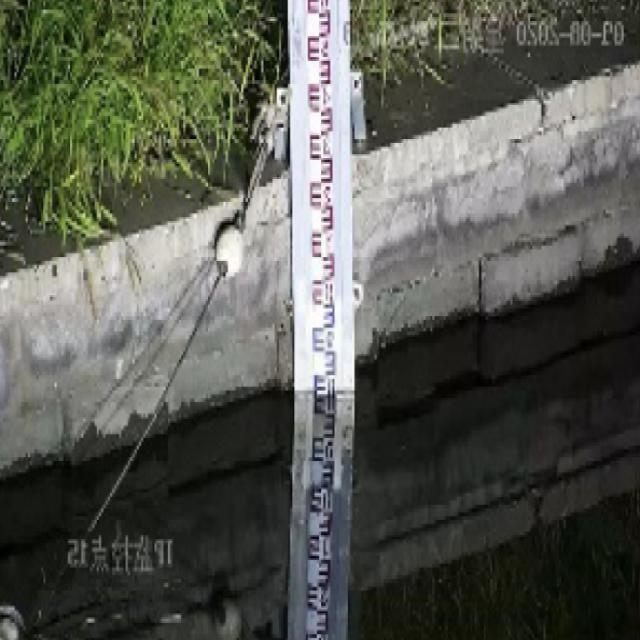water-level-meters: (291, 0, 349, 640)
